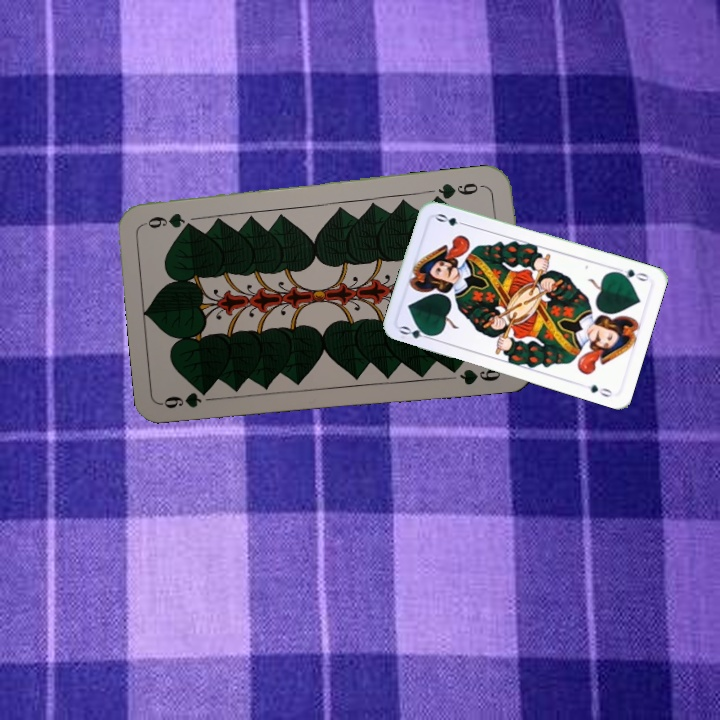G9: (430, 178, 489, 203), (159, 386, 211, 411)
GO: (396, 322, 437, 343), (611, 263, 651, 284)
